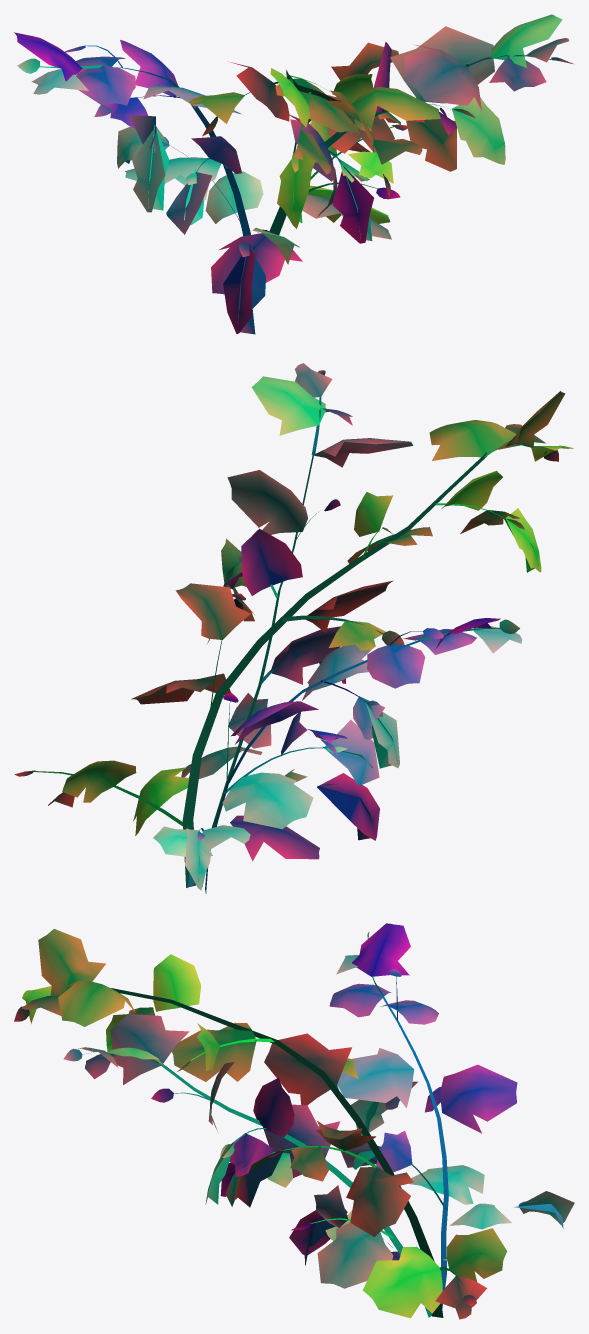
Rendered from Raspberry_wf0oefeja_High_wf0oefeja_VarH_LOD2.fbx.
3 views of the same model, one above another, from view 1: azimuth 30°, elevation 25°; view 2: azimuth 150°, elevation 25°; view 3: azimuth 270°, elevation 25° (orthographic). The views are drawn at different scales.
Visible parts, largest first — view 1: _jx58_VarH_LOD3; view 2: _jx58_VarH_LOD3; view 3: _jx58_VarH_LOD3.
Boxes of the visible parts, box(x1,y1,x2,y2) form: _jx58_VarH_LOD3: box(14, 14, 573, 334); _jx58_VarH_LOD3: box(14, 363, 573, 893); _jx58_VarH_LOD3: box(14, 923, 574, 1319).
Bounding box in the file's own units: 65.91 × 52.72 × 81.93.
